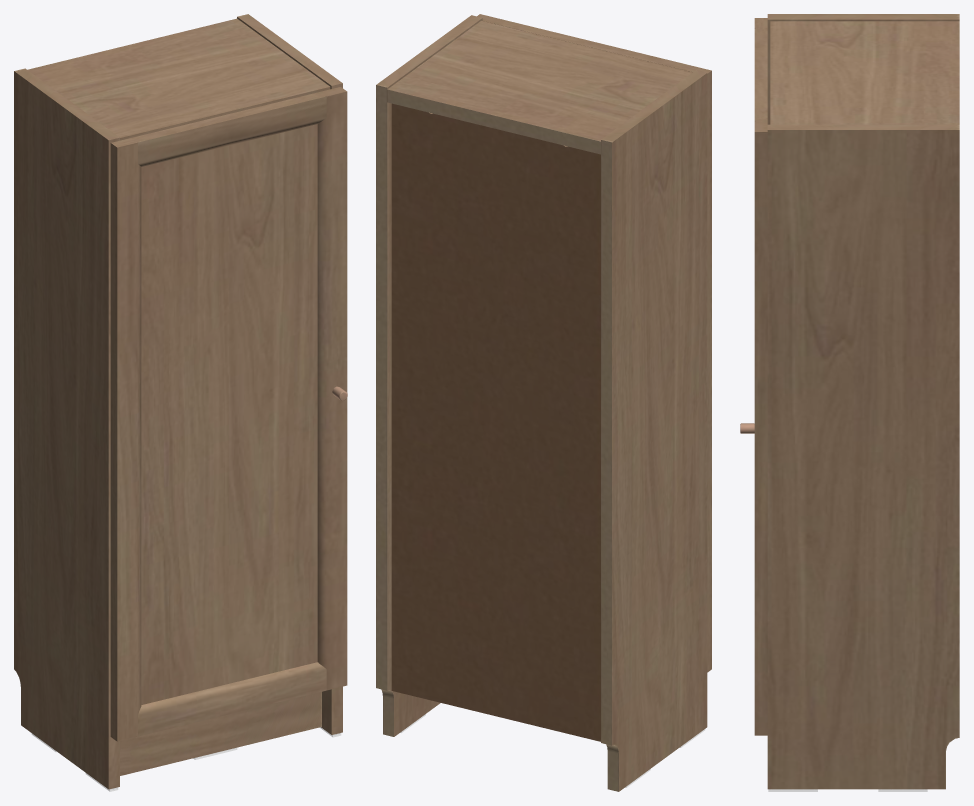
The model's file is 43 - BILLY OXBERG Bookcase with door - oak effect 40x30x106 cm.glb.
The picture shows the model from 3 angles, left to right: view 1: azimuth 30°, elevation 25°; view 2: azimuth 150°, elevation 25°; view 3: azimuth 270°, elevation 25°; orthographic projection.
Visible parts, largest first — view 1: Mesh_0; view 2: Mesh_0; view 3: Mesh_0.
Boxes of the visible parts, box(x1,y1,x2,y2) form: Mesh_0: box(14, 14, 347, 789); Mesh_0: box(376, 14, 711, 791); Mesh_0: box(740, 14, 959, 789).
Size of the model in its own units: 0.4 by 1.07 by 0.32.
Materials: 2 (2 with a texture image).
